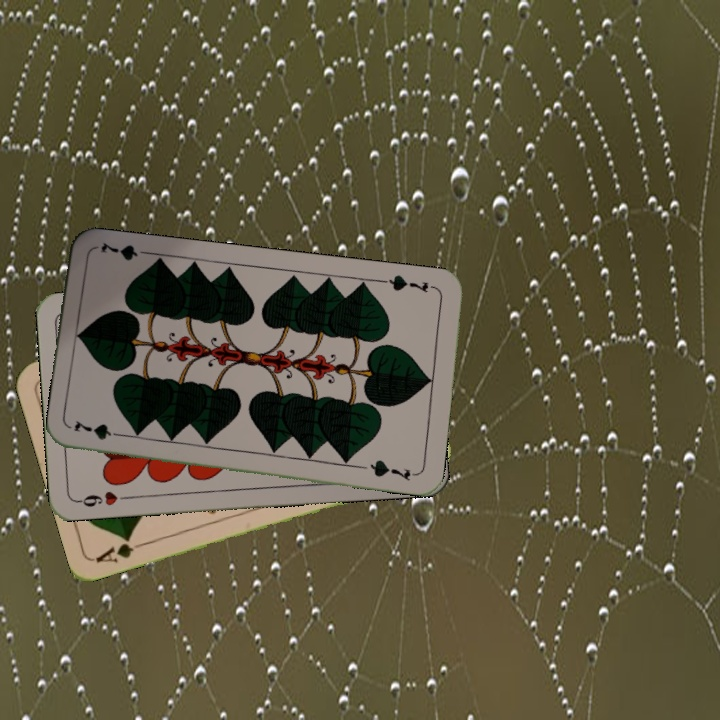G7: (380, 271, 439, 296), (70, 420, 130, 442)
GA: (92, 533, 150, 566)
H9: (74, 487, 133, 510)
